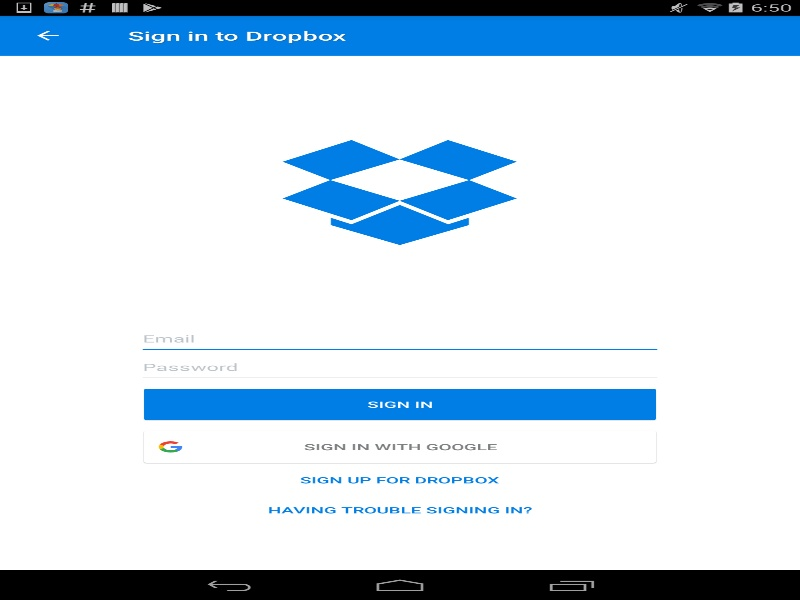Button: (139, 428, 660, 465), (142, 388, 657, 421), (251, 495, 548, 525), (284, 465, 515, 495), (10, 15, 85, 55)
Input: (142, 331, 657, 350), (142, 360, 657, 378)
